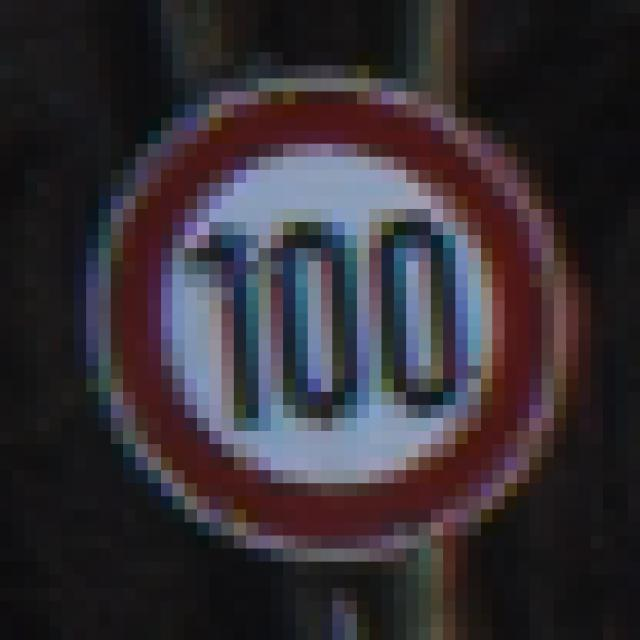Ograniczenie predkosci do 100: (99, 84, 553, 560)
